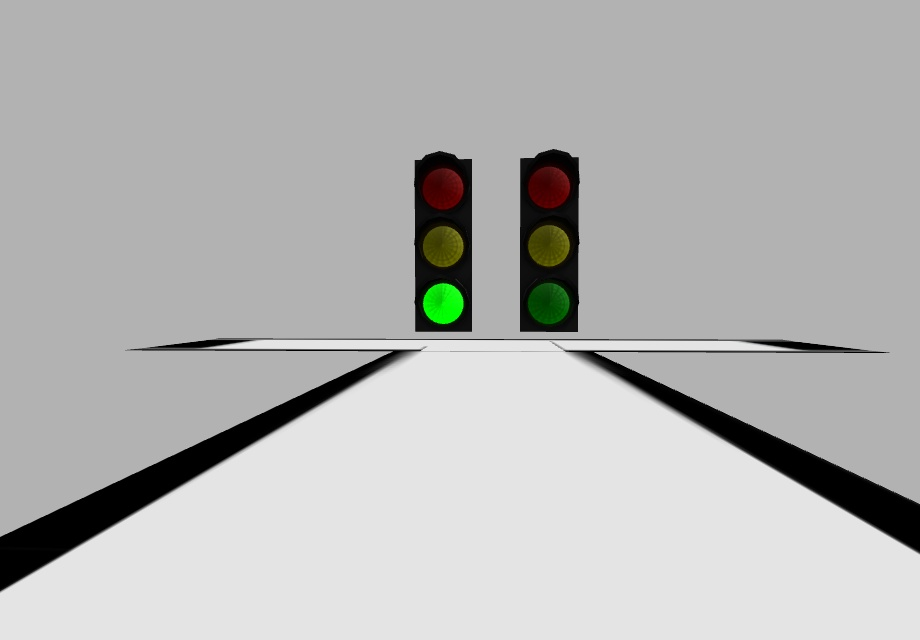green_off: (529, 282, 566, 323)
green_on: (422, 284, 461, 325)
